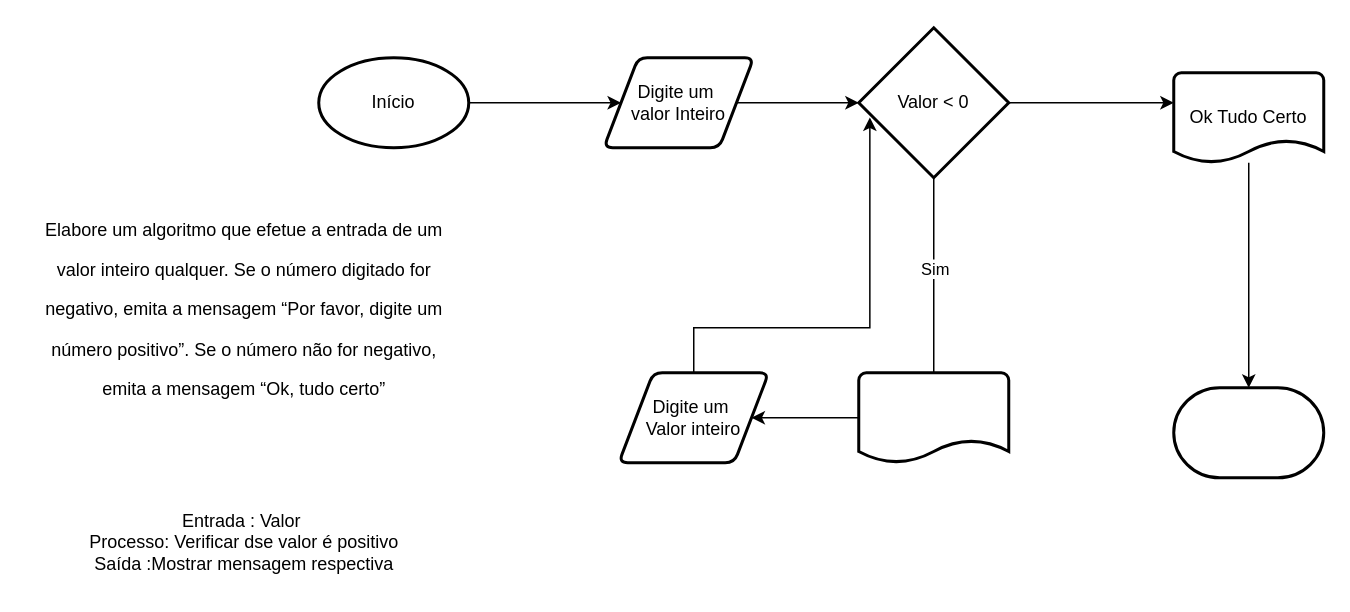
The diagram is 1350 pixels wide and 612 high, and some of its shapes have lost their labels. The shapes that lost their labels are listed below. From the top down, each one's centre as x and y in pixels, then its label:
At [933,417]: "Por favor digite um numero positivo".
At [1248,432]: "Fim do programa".
